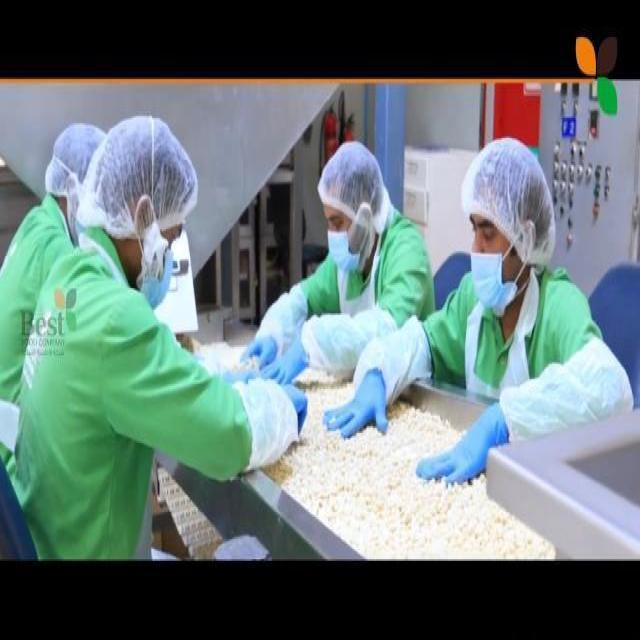gloved_hand: (415, 401, 509, 488), (321, 364, 392, 448), (256, 364, 316, 435), (260, 337, 310, 386), (239, 312, 276, 365)
